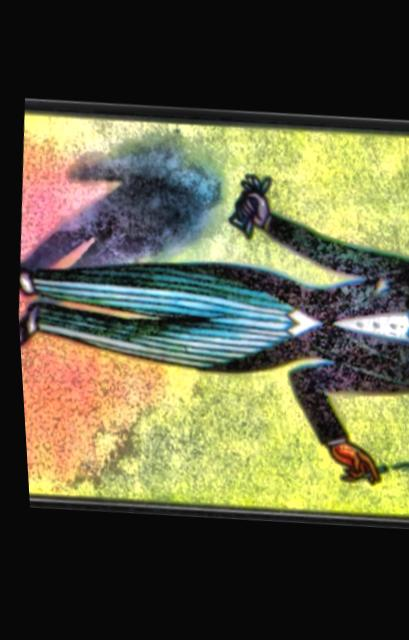El Catrin: (5, 105, 409, 527)
